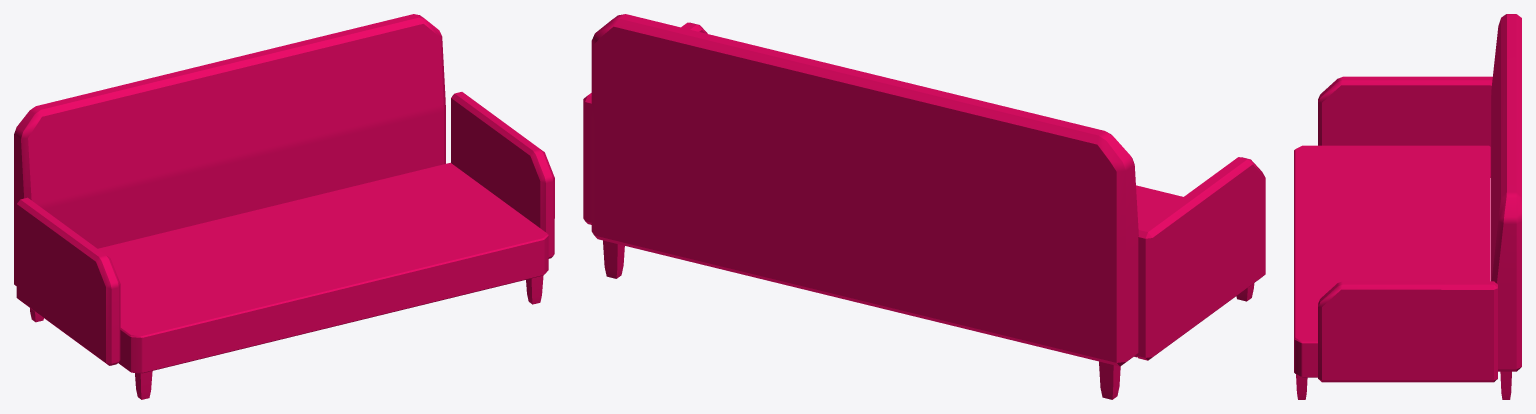
Rendered from Sofa_05_Lod0.fbx.
3 renders of one model, left to right at view 1: azimuth 30°, elevation 25°; view 2: azimuth 150°, elevation 25°; view 3: azimuth 270°, elevation 25°, orthographic. The views are drawn at different scales.
Visible parts, largest first — view 1: Sofa_05_Lod0; view 2: Sofa_05_Lod0; view 3: Sofa_05_Lod0.
Part boxes in pixels (bbox=[...]): Sofa_05_Lod0: bbox=[14, 14, 554, 399]; Sofa_05_Lod0: bbox=[583, 14, 1265, 399]; Sofa_05_Lod0: bbox=[1294, 14, 1521, 399].
Size of the model in its own units: 263 by 117 by 120.
